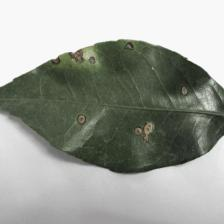canker: (62, 47, 104, 66)
